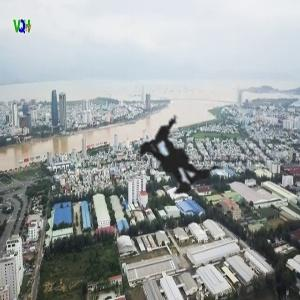drone: (61, 52, 297, 288)
